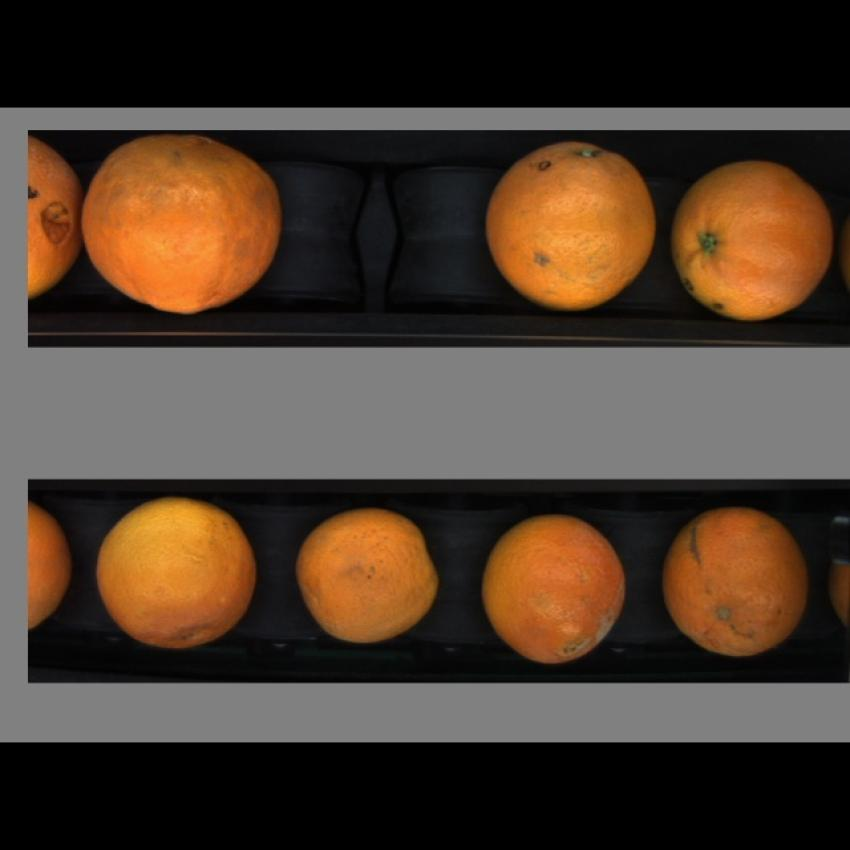Buen estado: (93, 497, 261, 657), (28, 500, 72, 642)
Mal estado: (77, 135, 292, 318), (482, 140, 659, 318), (670, 152, 834, 322), (657, 508, 814, 660), (478, 514, 635, 664), (291, 501, 449, 646), (26, 136, 81, 306)
